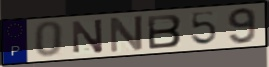0: (31, 20, 66, 59)
5: (188, 10, 219, 47)
9: (226, 6, 258, 46)
B: (145, 13, 184, 51)
N: (109, 14, 145, 55), (70, 17, 105, 55)
